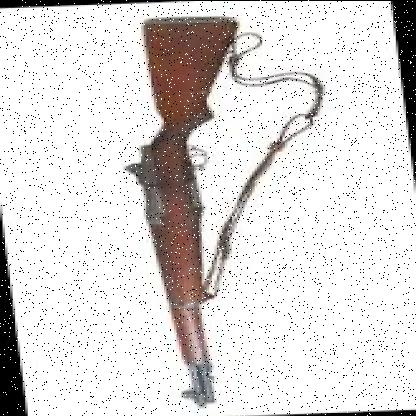rifle: (100, 7, 292, 409)
